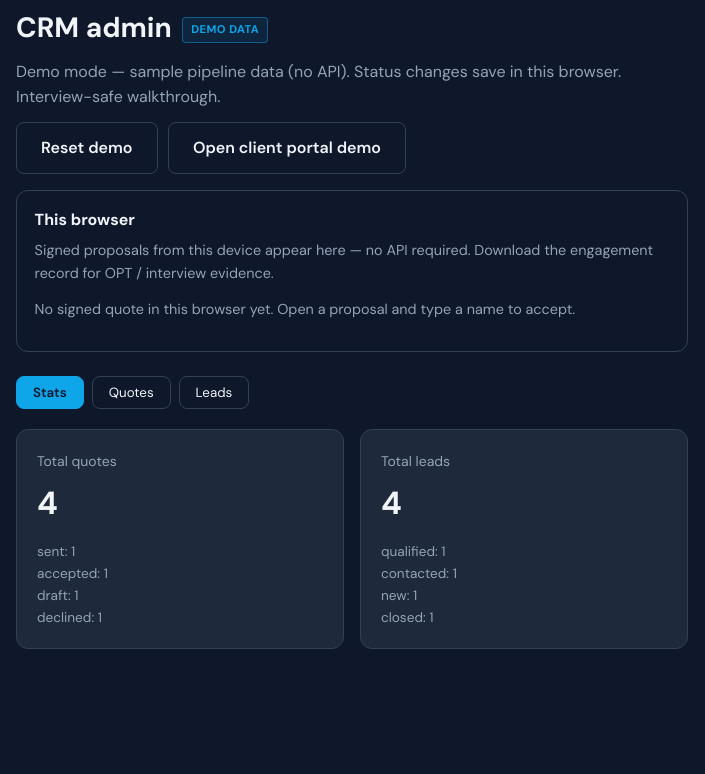
it: CrmAdmin › shows demo leads without an API
Click the tab "Leads" at (214, 393), box left=179, top=376, right=249, bottom=409
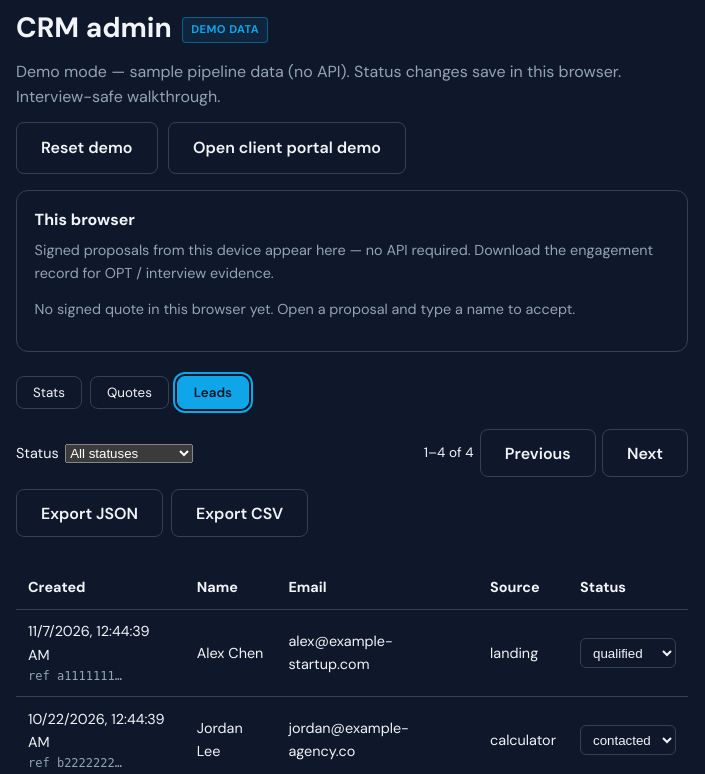
Expected: the text "Alex Chen" is shown, left=185, top=610, right=276, bottom=697
